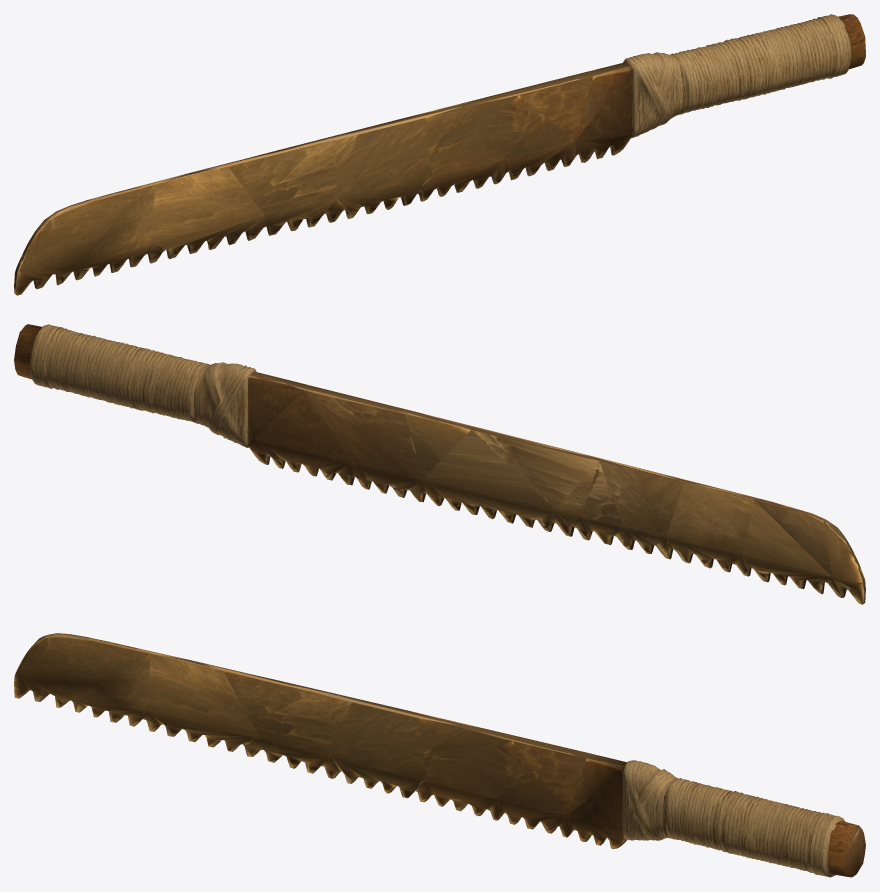
File: Handsaw_Bronze_Optimized.glb
The picture shows the model from 3 angles, top to bottom: view 1: azimuth 30°, elevation 25°; view 2: azimuth 150°, elevation 25°; view 3: azimuth 330°, elevation 25°; orthographic projection.
Parts seen in each view (by area): view 1: Handsaw_Bronze; view 2: Handsaw_Bronze; view 3: Handsaw_Bronze.
Part boxes in pixels (x1,y1,x2,y2): Handsaw_Bronze: [14, 14, 865, 295]; Handsaw_Bronze: [14, 324, 865, 604]; Handsaw_Bronze: [14, 633, 865, 877].
Size of the model in its own units: 1.9 by 0.2004 by 0.109.
1 material, 1 textured.
